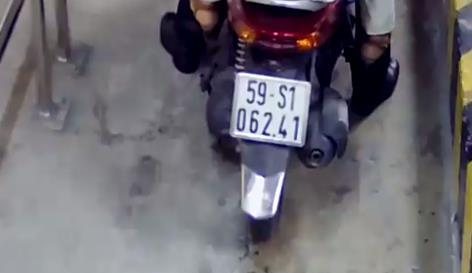lisence: (230, 73, 312, 148)
